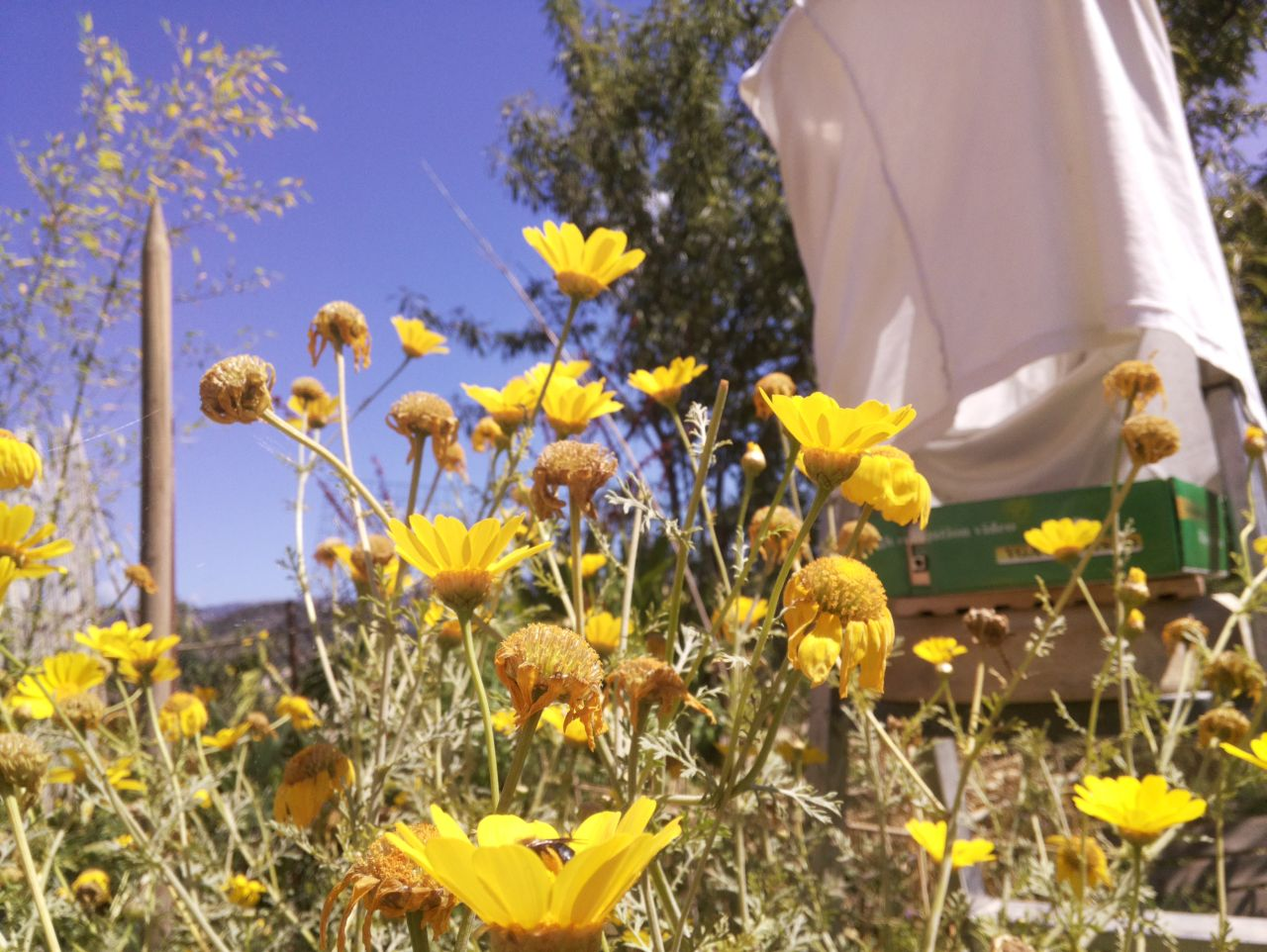bee: (510, 821, 583, 871)
